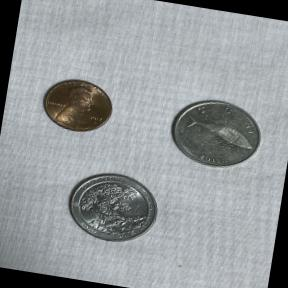coin: (58, 163, 168, 252), (162, 90, 270, 176), (31, 66, 122, 142)
